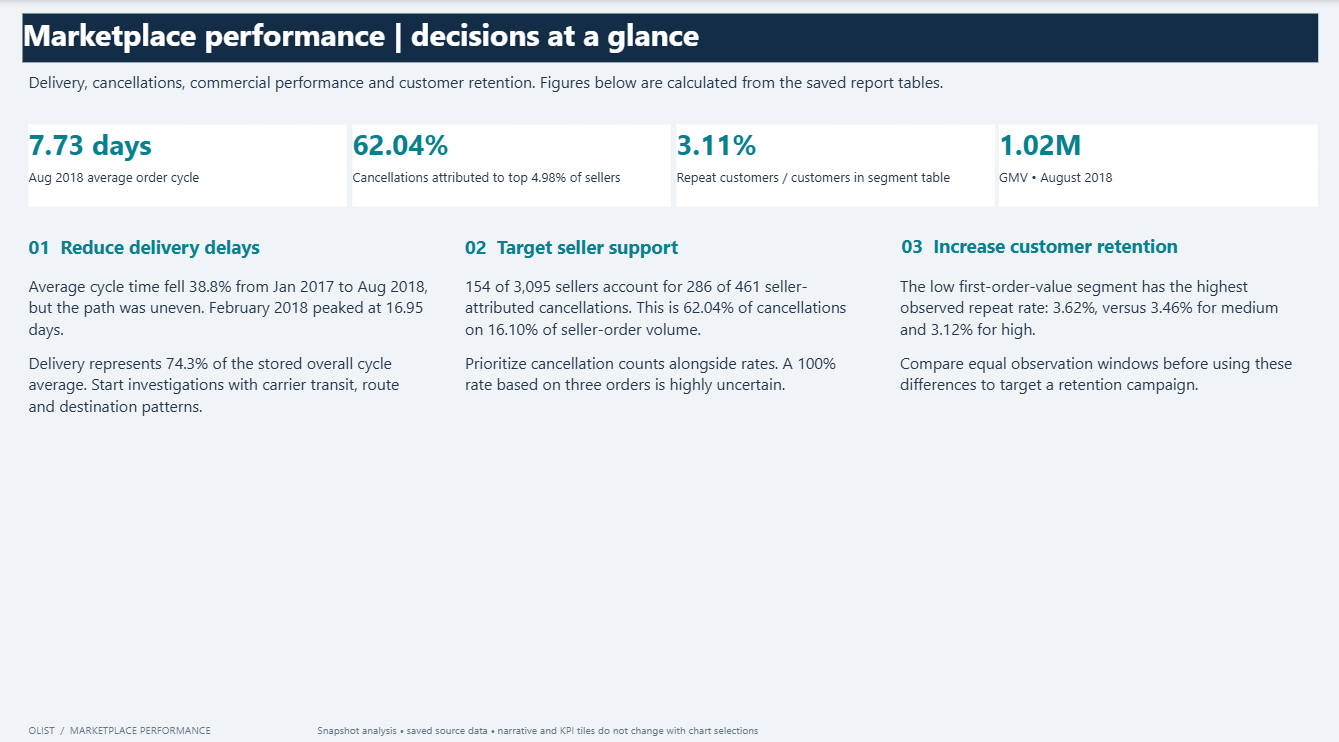

What the dashboard file says about the page in this screenshot:
{"tool":"powerbi","page":{"name":"01 | Overview","canvas":[1920,1080],"ordinal":0},"visuals":[{"type":"textbox","box":[32,20,1856,70],"z":0},{"type":"textbox","box":[40,100,1840,62],"z":1000},{"type":"textbox","box":[40,1035,1840,30],"z":2000},{"type":"textbox","box":[40,178,456,62],"z":3000},{"type":"textbox","box":[40,240,456,55],"z":4000},{"type":"textbox","box":[504,178,456,62],"z":5000},{"type":"textbox","box":[504,240,456,55],"z":6000},{"type":"textbox","box":[968,178,456,62],"z":7000},{"type":"textbox","box":[968,240,456,55],"z":8000},{"type":"textbox","box":[40,335,575,48],"z":9000},{"type":"textbox","box":[40,393,575,252],"z":10000},{"type":"textbox","box":[665,335,575,48],"z":11000},{"type":"textbox","box":[665,393,575,252],"z":12000},{"type":"textbox","box":[1290,393,575,252],"z":13000},{"type":"textbox","box":[1431.7,178.3,456.7,61.7],"z":14001},{"type":"textbox","box":[1431.7,240,456.7,55],"z":14002},{"type":"textbox","box":[1290.8,334,575,47.7],"z":14003}]}

Visuals, with their boxes in screenshot pixels (x1, y1, x2, y2), scaled from the page's 1920x1080 canvas onto the 1339x742 screenshot:
textbox: (x1=22, y1=14, x2=1317, y2=62)
textbox: (x1=28, y1=69, x2=1311, y2=111)
textbox: (x1=28, y1=711, x2=1311, y2=732)
textbox: (x1=28, y1=122, x2=346, y2=165)
textbox: (x1=28, y1=165, x2=346, y2=203)
textbox: (x1=351, y1=122, x2=670, y2=165)
textbox: (x1=351, y1=165, x2=670, y2=203)
textbox: (x1=675, y1=122, x2=993, y2=165)
textbox: (x1=675, y1=165, x2=993, y2=203)
textbox: (x1=28, y1=230, x2=429, y2=263)
textbox: (x1=28, y1=270, x2=429, y2=443)
textbox: (x1=464, y1=230, x2=865, y2=263)
textbox: (x1=464, y1=270, x2=865, y2=443)
textbox: (x1=900, y1=270, x2=1301, y2=443)
textbox: (x1=998, y1=122, x2=1317, y2=165)
textbox: (x1=998, y1=165, x2=1317, y2=203)
textbox: (x1=900, y1=229, x2=1301, y2=262)
